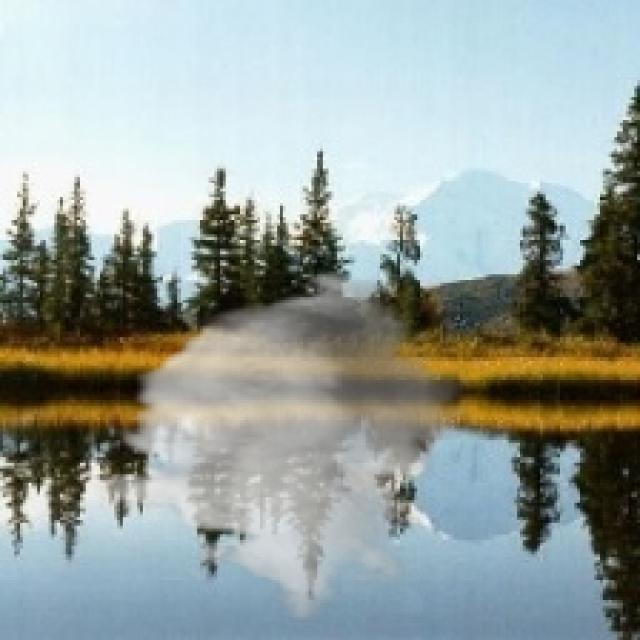Smoke: (92, 268, 474, 623)
